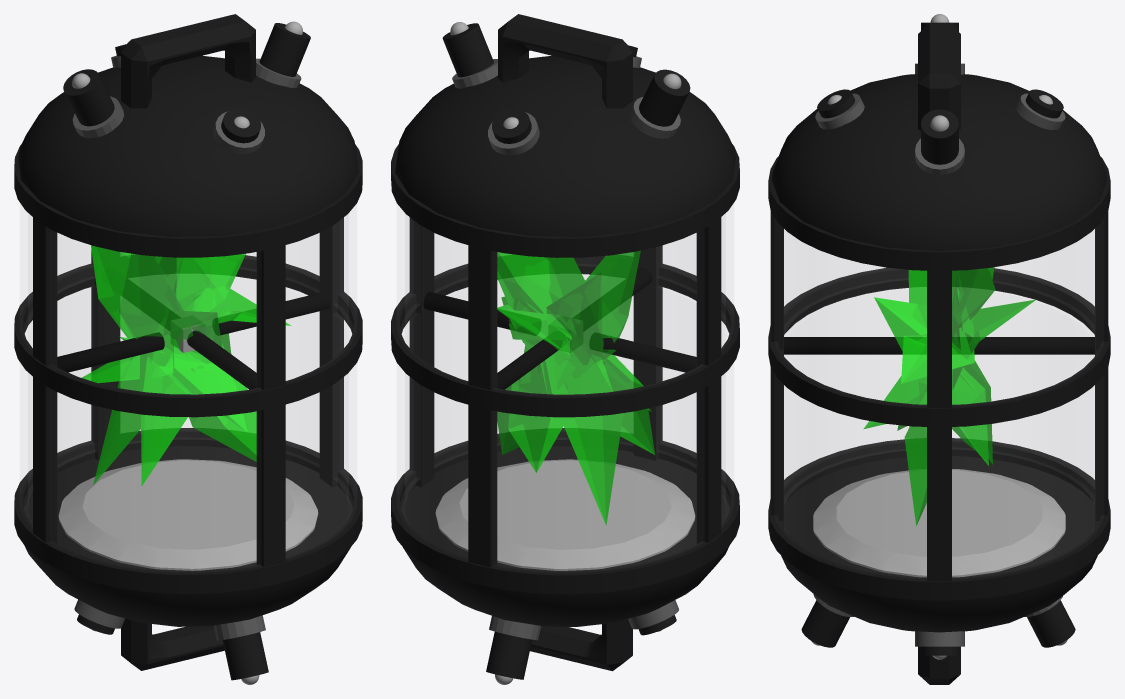
File: Crystal2.fbx
The picture shows the model from 3 angles, left to right: view 1: azimuth 30°, elevation 25°; view 2: azimuth 150°, elevation 25°; view 3: azimuth 270°, elevation 25°; orthographic projection. The views are drawn at different scales.
Visible parts, largest first — view 1: pCube47; view 2: pCube47; view 3: pCube47.
Boxes of the visible parts, x1=… form: pCube47: x1=14, y1=14, x2=362, y2=684; pCube47: x1=391, y1=14, x2=739, y2=684; pCube47: x1=768, y1=14, x2=1110, y2=684.
Size of the model in its own units: 13.71 by 27.06 by 13.71.
